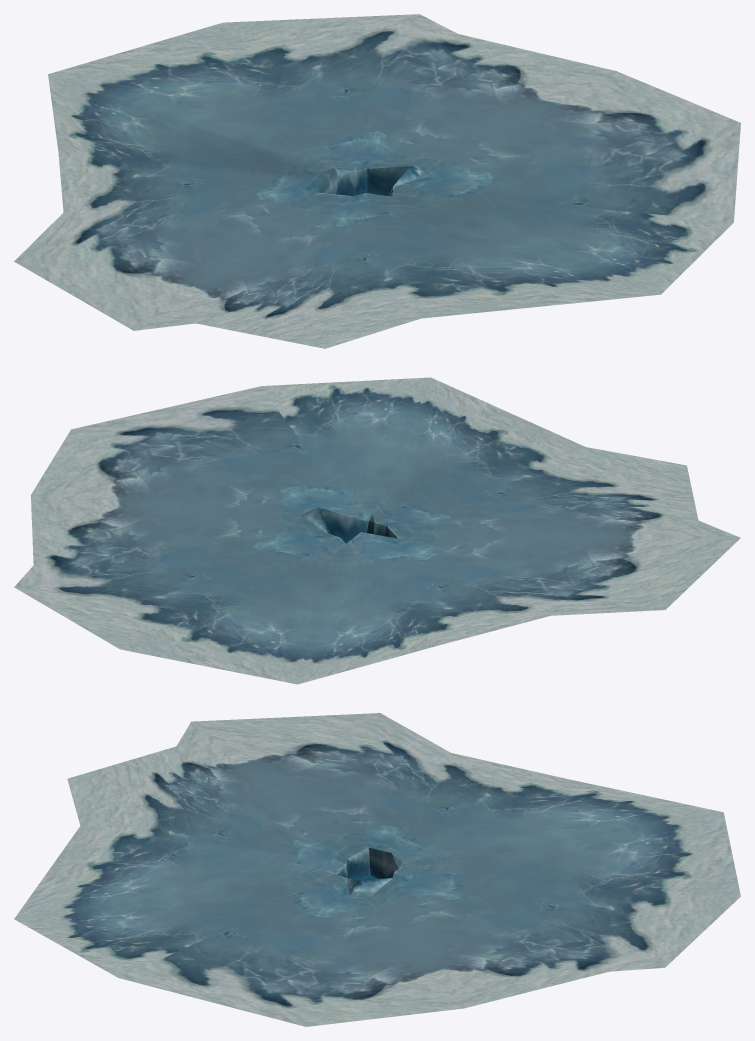
File: environment_stone_bingmian_001_a.FBX
3 renders of one model, top to bottom at view 1: azimuth 30°, elevation 25°; view 2: azimuth 150°, elevation 25°; view 3: azimuth 270°, elevation 25°, orthographic. The views are drawn at different scales.
Parts seen in each view (by area): view 1: environment_stone_bingmian_001_a; view 2: environment_stone_bingmian_001_a; view 3: environment_stone_bingmian_001_a.
Boxes of the visible parts, x1=… form: environment_stone_bingmian_001_a: x1=14, y1=14, x2=740, y2=348; environment_stone_bingmian_001_a: x1=14, y1=377, x2=740, y2=684; environment_stone_bingmian_001_a: x1=14, y1=713, x2=740, y2=1026.
Bounding box in the file's own units: 269 × 12.52 × 263.
1 material, 1 textured.
